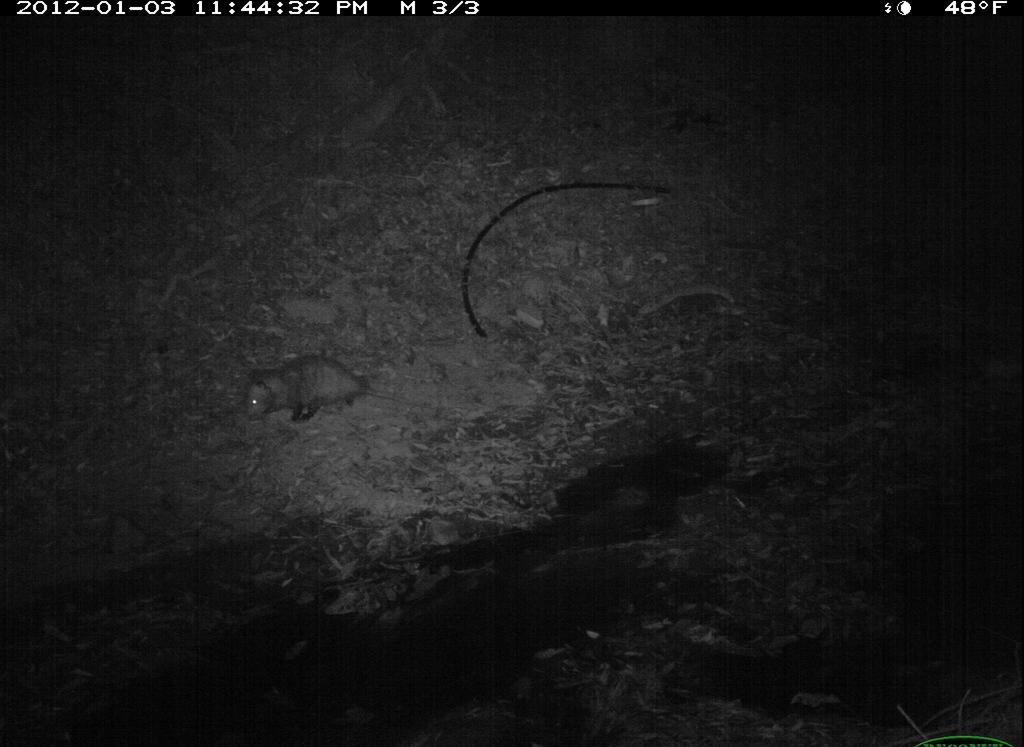opossum: (227, 349, 437, 443)
